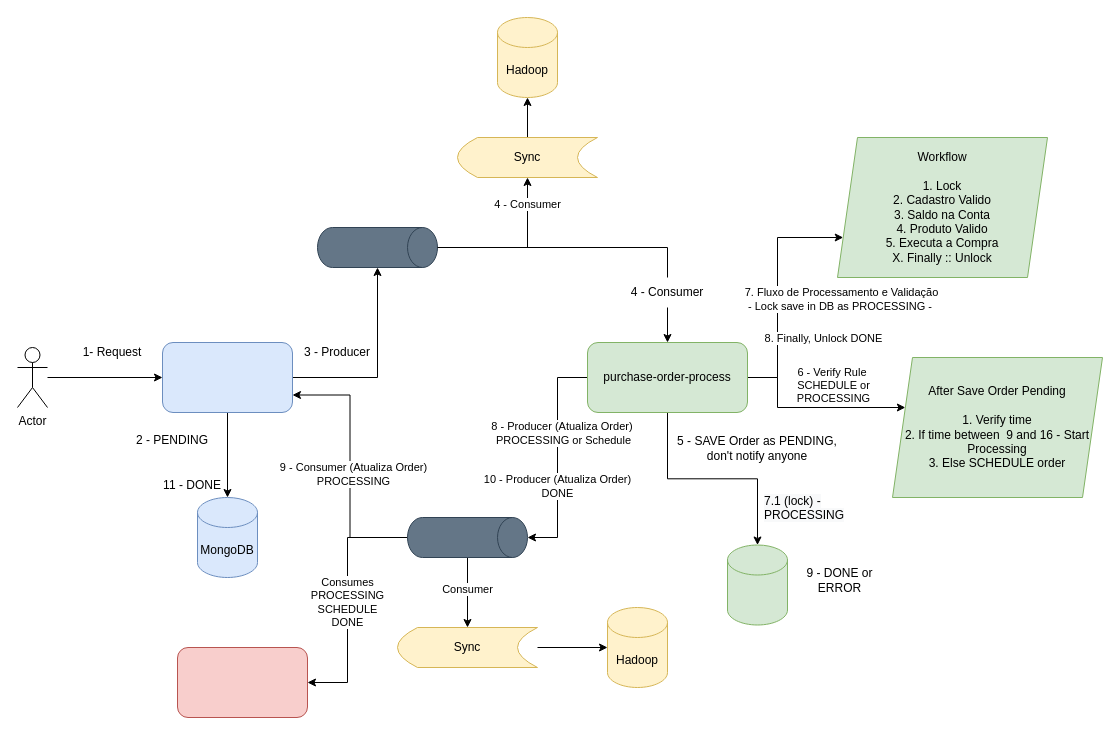
The diagram is 1120 pixels wide and 735 high, and some of its shapes have lost their labels. The centre of each missing label's shape, as x and y in pixels:
H2: point (757, 584)
order-email: point (242, 682)
purchase-order: point (227, 377)
